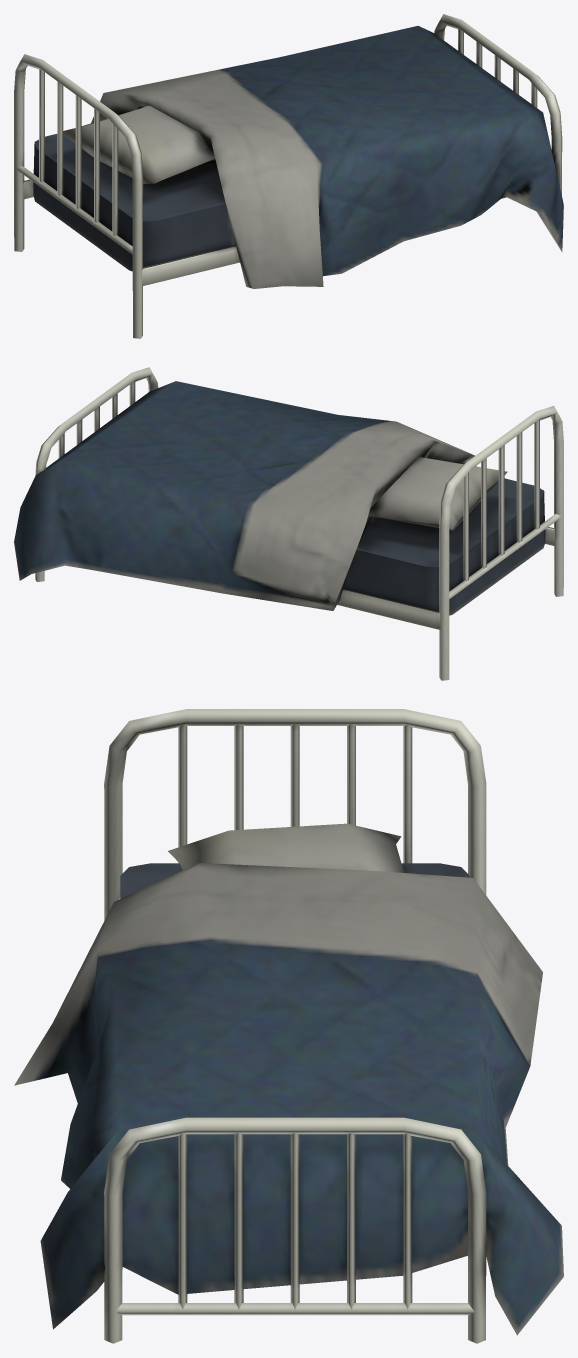
Rendered from Bed.fbx.
The picture shows the model from 3 angles, top to bottom: view 1: azimuth 30°, elevation 25°; view 2: azimuth 150°, elevation 25°; view 3: azimuth 270°, elevation 25°; orthographic projection. The views are drawn at different scales.
Visible parts, largest first — view 1: Object_4; view 2: Object_4; view 3: Object_4.
Boxes of the visible parts, left/top/right/bottom form: Object_4: left=14, top=14, right=563, bottom=338; Object_4: left=14, top=367, right=563, bottom=680; Object_4: left=14, top=709, right=563, bottom=1343.
Bounding box in the file's own units: 224 × 99.83 × 156.
1 material, 1 textured.
